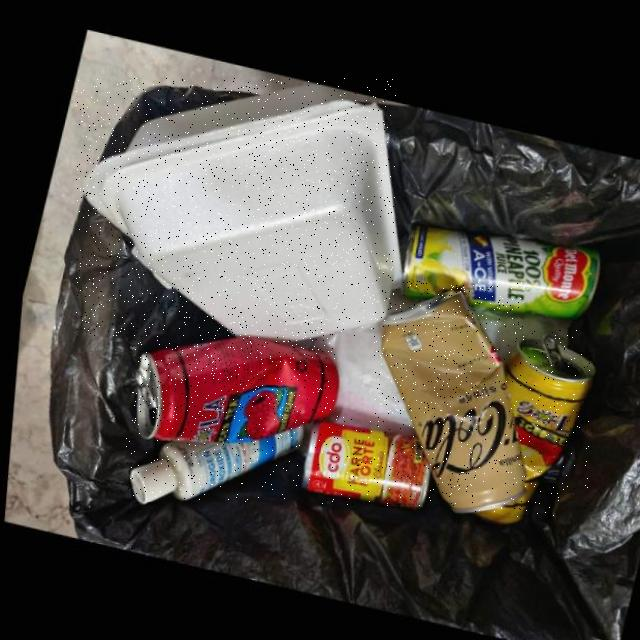metal: (375, 281, 525, 506), (474, 327, 590, 516), (133, 332, 335, 439), (394, 217, 593, 310), (299, 413, 428, 504)
plastic: (127, 421, 300, 502)
styrofoam: (76, 78, 396, 336)
